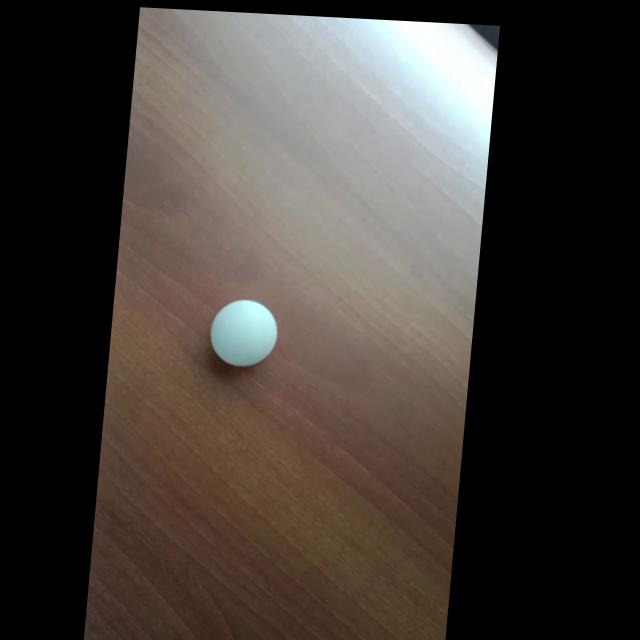white ball: (207, 297, 281, 369)
